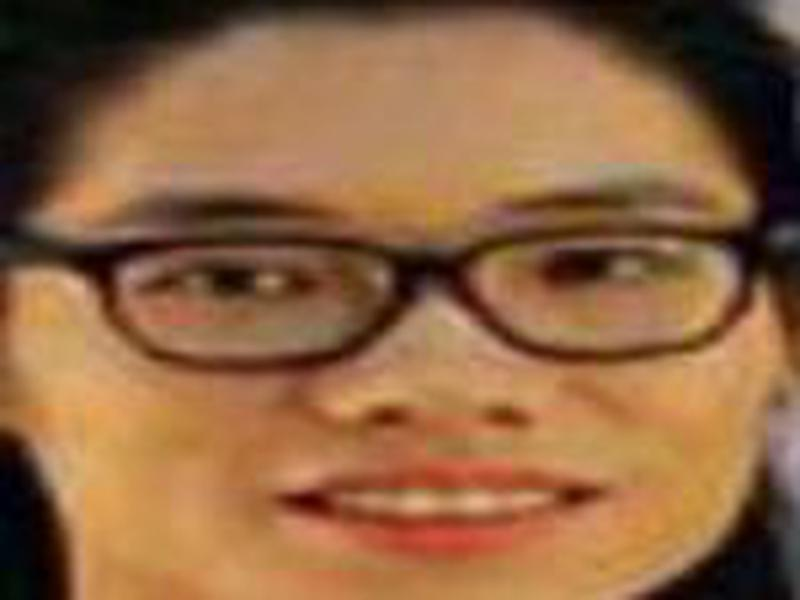without_mask: (34, 36, 763, 600)
